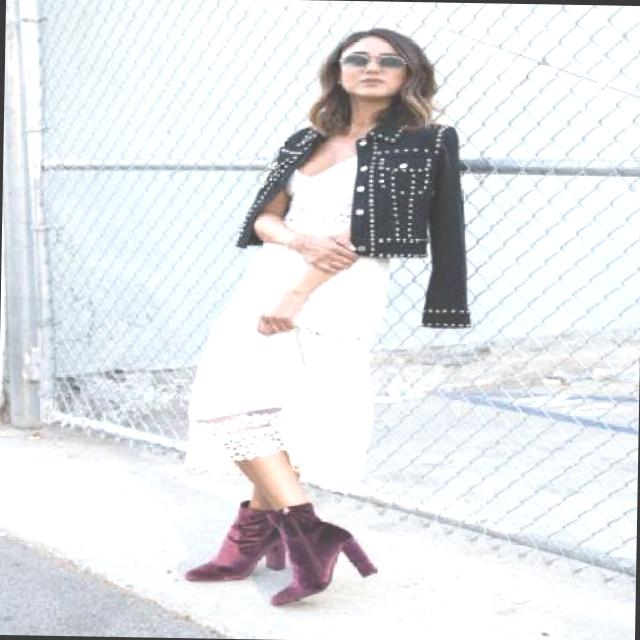Person: (122, 17, 496, 634)
